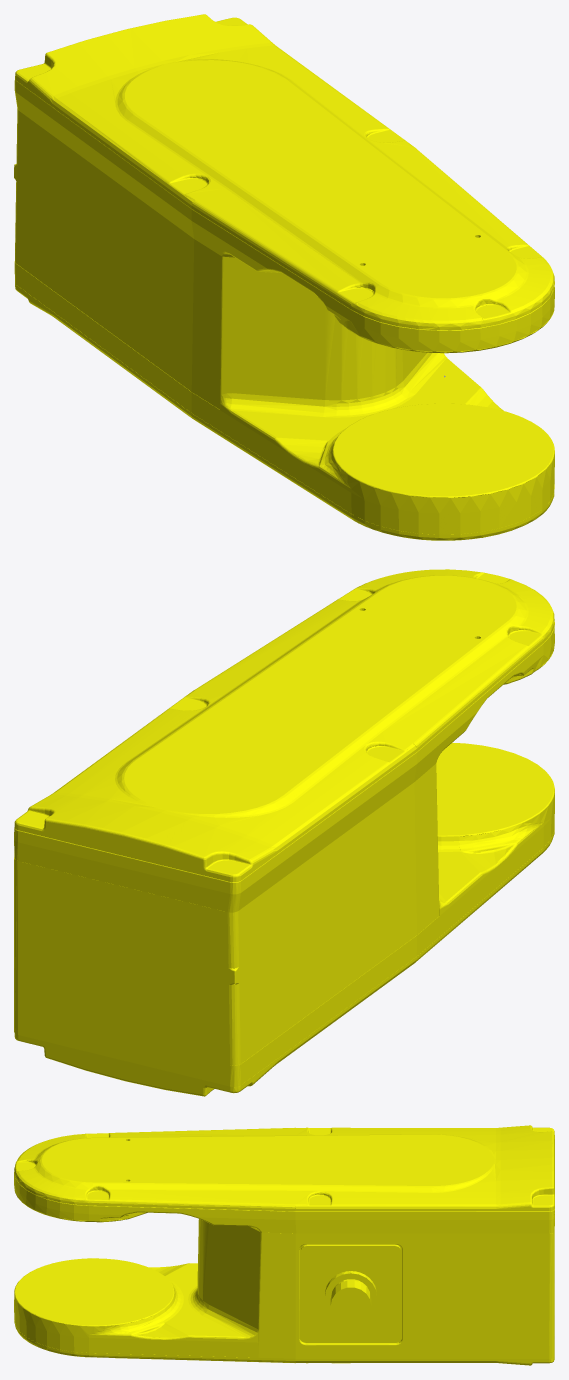
3 renders of one model, top to bottom at view 1: azimuth 30°, elevation 25°; view 2: azimuth 150°, elevation 25°; view 3: azimuth 270°, elevation 25°, orthographic. The views are drawn at different scales.
Visible parts, largest first — view 1: node; view 2: node; view 3: node.
Part boxes in pixels (left/top/right/bottom): node: left=14, top=14, right=554, bottom=540; node: left=14, top=569, right=554, bottom=1096; node: left=14, top=1125, right=554, bottom=1365.
Bounding box in the file's own units: 114 × 105 × 288.
